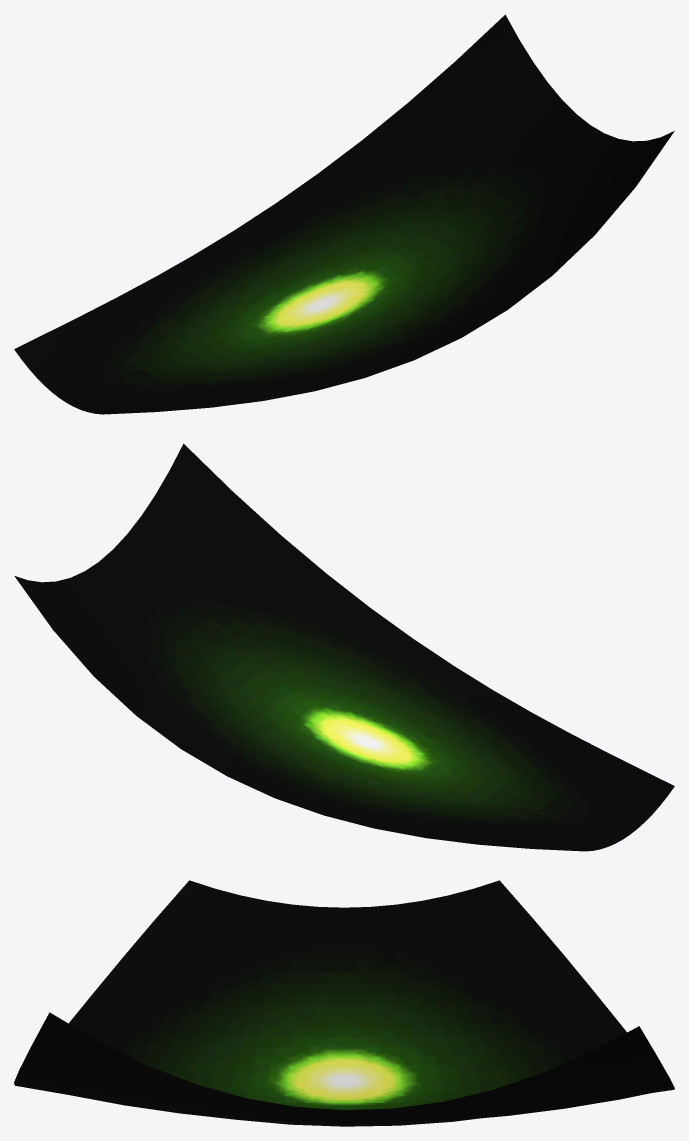
File: 0311_huaban.glb
3 renders of one model, top to bottom at view 1: azimuth 30°, elevation 25°; view 2: azimuth 150°, elevation 25°; view 3: azimuth 270°, elevation 25°, orthographic. The views are drawn at different scales.
Bounding box in the file's own units: 2.2 × 0.7881 × 1.36.
Materials: 1 (1 with a texture image).
